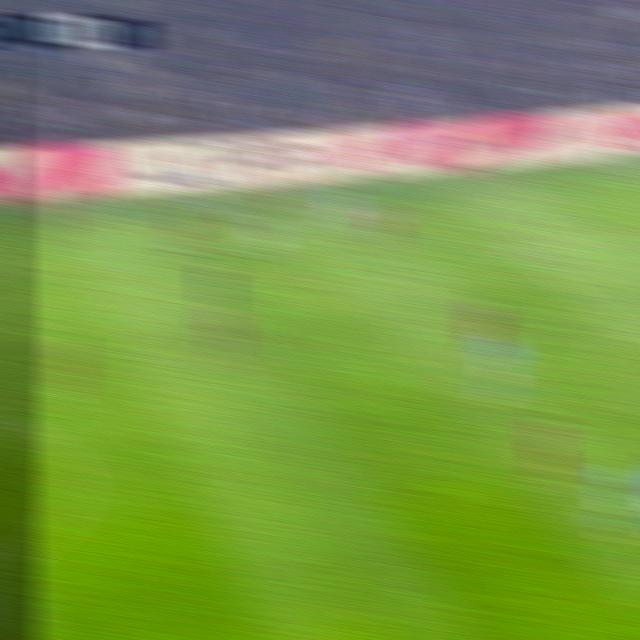bigarea_top_inner: (500, 227, 545, 277)
top_arc_area_intersection: (605, 306, 640, 361)
